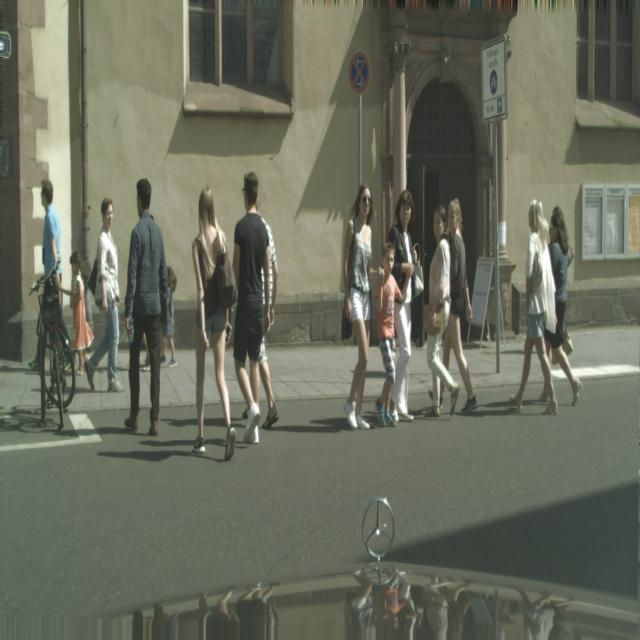car: (28, 262, 76, 425)
person: (192, 186, 237, 461), (123, 179, 168, 435), (231, 171, 272, 447), (508, 198, 559, 416), (84, 197, 124, 394), (544, 206, 583, 408), (442, 198, 478, 414), (423, 206, 459, 421), (342, 185, 373, 430), (33, 169, 68, 386), (387, 190, 417, 422), (374, 241, 406, 428), (257, 186, 280, 430), (68, 251, 93, 374)
